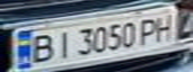0: (90, 24, 112, 54), (121, 19, 142, 48)
3: (75, 25, 96, 56)
5: (106, 21, 127, 52)
B: (24, 30, 57, 65)
H: (151, 11, 181, 43)
I: (51, 28, 75, 61)
P: (136, 16, 163, 45)
